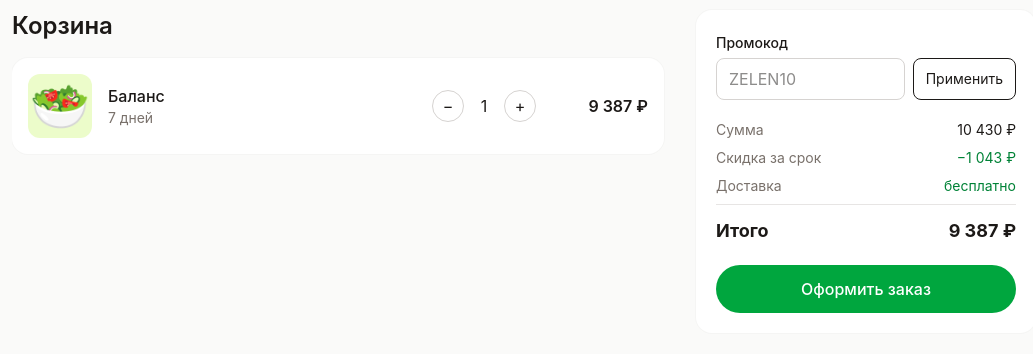
CartPage › сообщает о неверном промокоде и применяет верный
This screenshot has width=1033, height=354.
Type "NOPE" into the field labelled "Промокод" at point(810, 79), box [716,58,905,100]
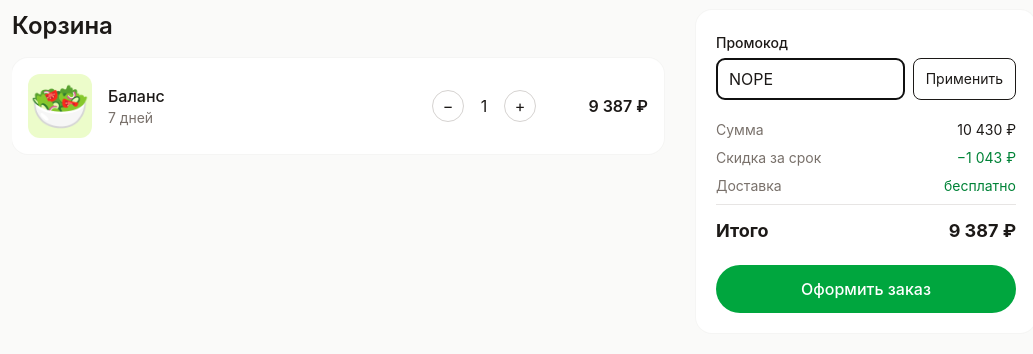
Click the button "Применить" at point(964, 79), box [913,58,1016,100]
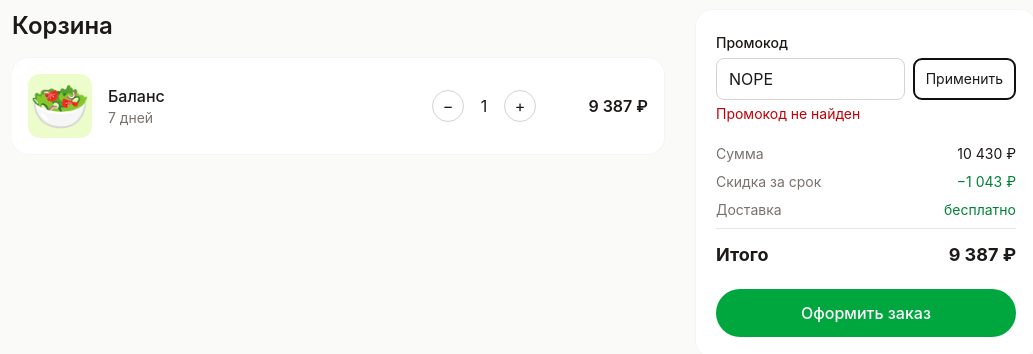
Expected: the message reads "Промокод не найден", [716,105,860,122]
Replace the text in the field labelled "Промокод" with "zelen10" at point(810, 79), box [716,58,905,100]
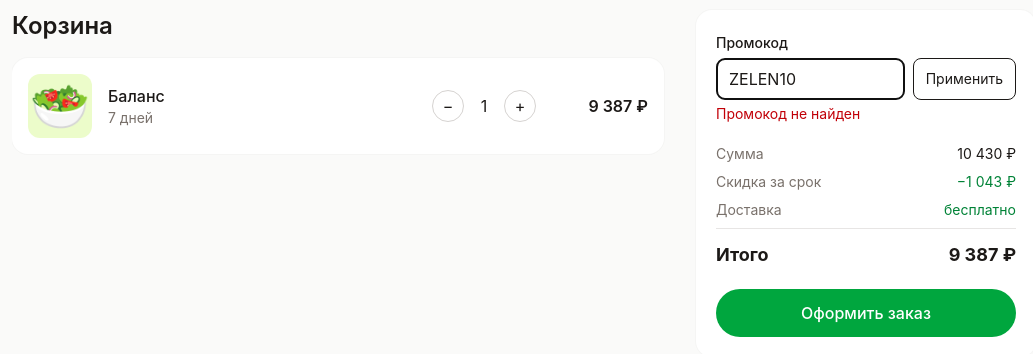
Click the button "Применить" at point(964, 79), box [913,58,1016,100]
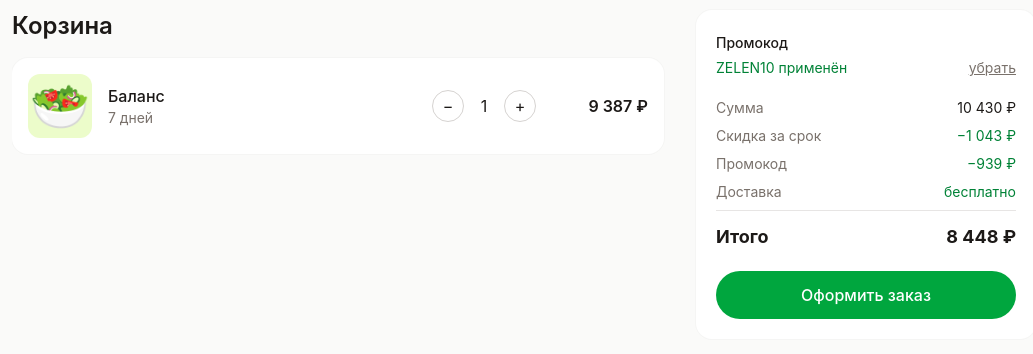
Expected: the text "ZELEN10 применён" is shown, [716,58,1016,78]
